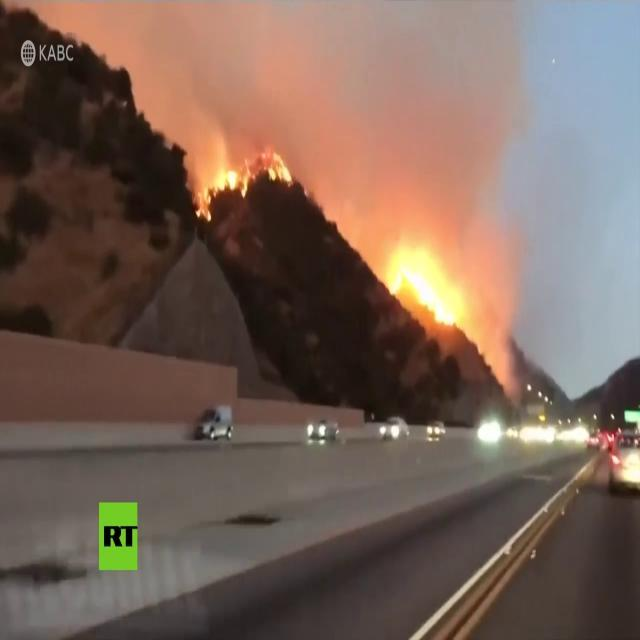Fire: (384, 250, 460, 328), (192, 166, 248, 224), (267, 149, 292, 184)
